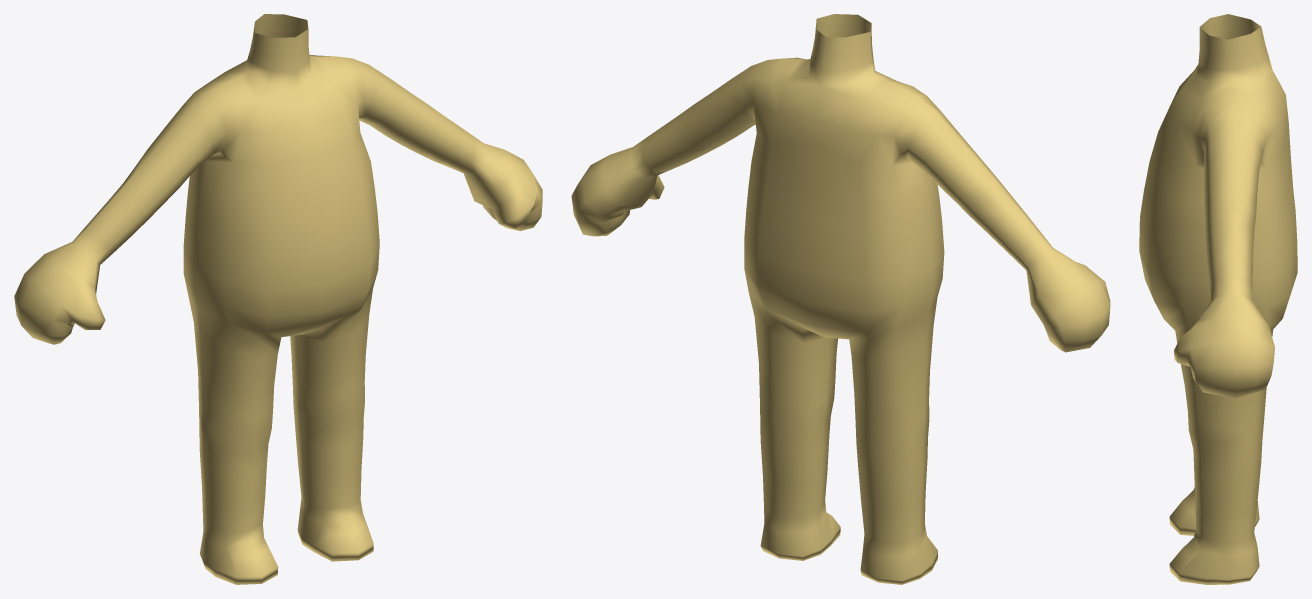
The model's file is default naked.fbx.
The picture shows the model from 3 angles, left to right: view 1: azimuth 30°, elevation 25°; view 2: azimuth 150°, elevation 25°; view 3: azimuth 270°, elevation 25°; orthographic projection. The views are drawn at different scales.
Visible parts, largest first — view 1: Body_Fit; view 2: Body_Fit; view 3: Body_Fit.
Boxes of the visible parts, box(x1,y1,x2,y2) form: Body_Fit: box(14, 14, 542, 584); Body_Fit: box(571, 14, 1110, 584); Body_Fit: box(1139, 14, 1297, 584).
Bounding box in the file's own units: 107 × 104 × 28.57.
